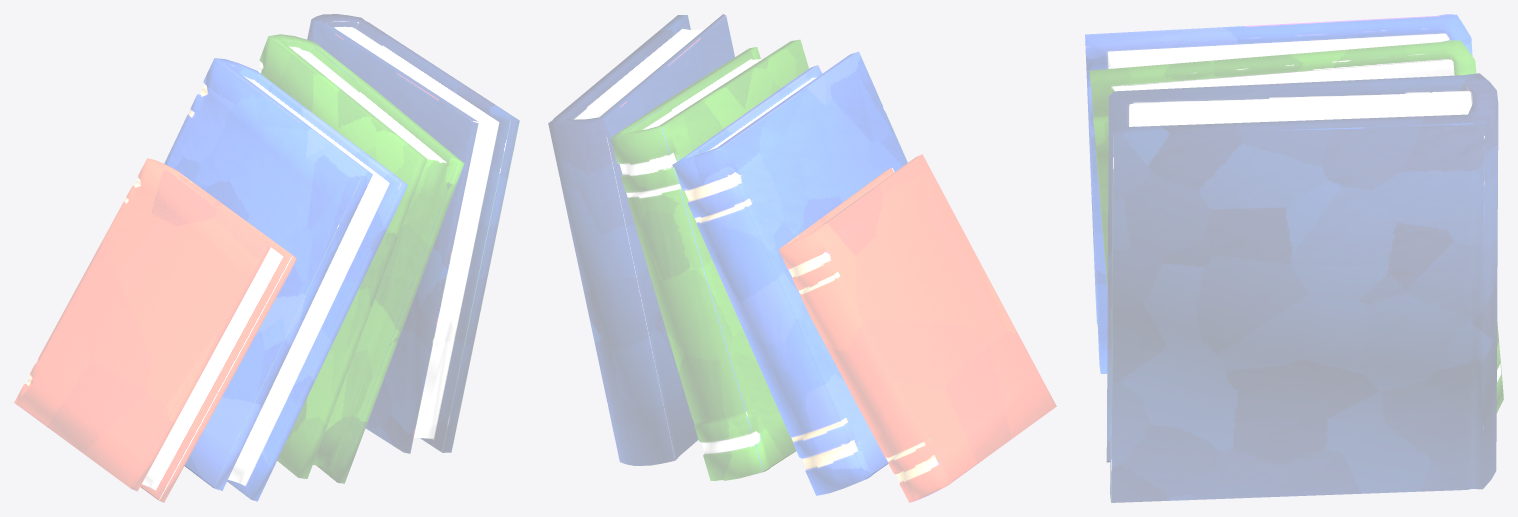
Rendered from Books.fbx.
The picture shows the model from 3 angles, left to right: view 1: azimuth 30°, elevation 25°; view 2: azimuth 150°, elevation 25°; view 3: azimuth 270°, elevation 25°; orthographic projection. The views are drawn at different scales.
Visible parts, largest first — view 1: Books_BAKED; view 2: Books_BAKED; view 3: Books_BAKED.
Part boxes in pixels (left/top/right/bottom): Books_BAKED: left=14, top=14, right=519, bottom=502; Books_BAKED: left=548, top=14, right=1056, bottom=502; Books_BAKED: left=1085, top=14, right=1503, bottom=502.
Size of the model in its own units: 30.77 by 25.94 by 22.23.
